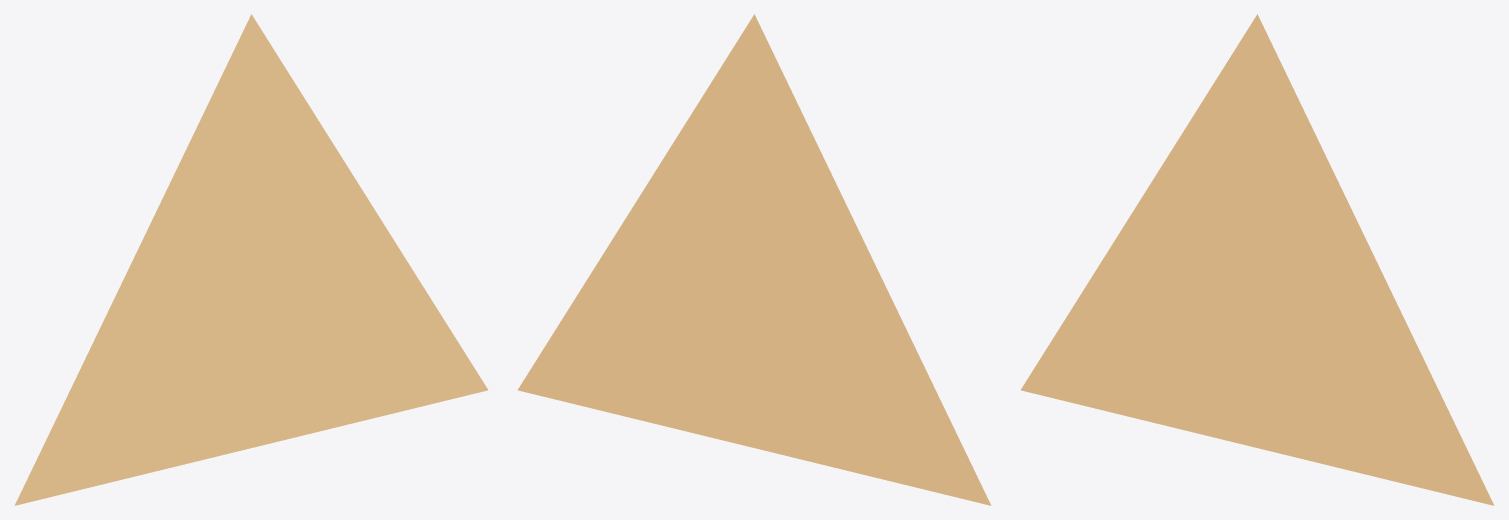
The model's file is emissive_test.gltf.
3 views of the same model, side by side, from view 1: azimuth 30°, elevation 25°; view 2: azimuth 150°, elevation 25°; view 3: azimuth 330°, elevation 25° (orthographic).
Parts seen in each view (by area): view 1: TranslatedTriangle; view 2: TranslatedTriangle; view 3: TranslatedTriangle.
Part boxes in pixels (x1=…): TranslatedTriangle: x1=14, y1=14, x2=487, y2=505; TranslatedTriangle: x1=518, y1=14, x2=991, y2=505; TranslatedTriangle: x1=1021, y1=14, x2=1494, y2=505.
Bounding box in the file's own units: 1.28 × 1.12 × 0.
